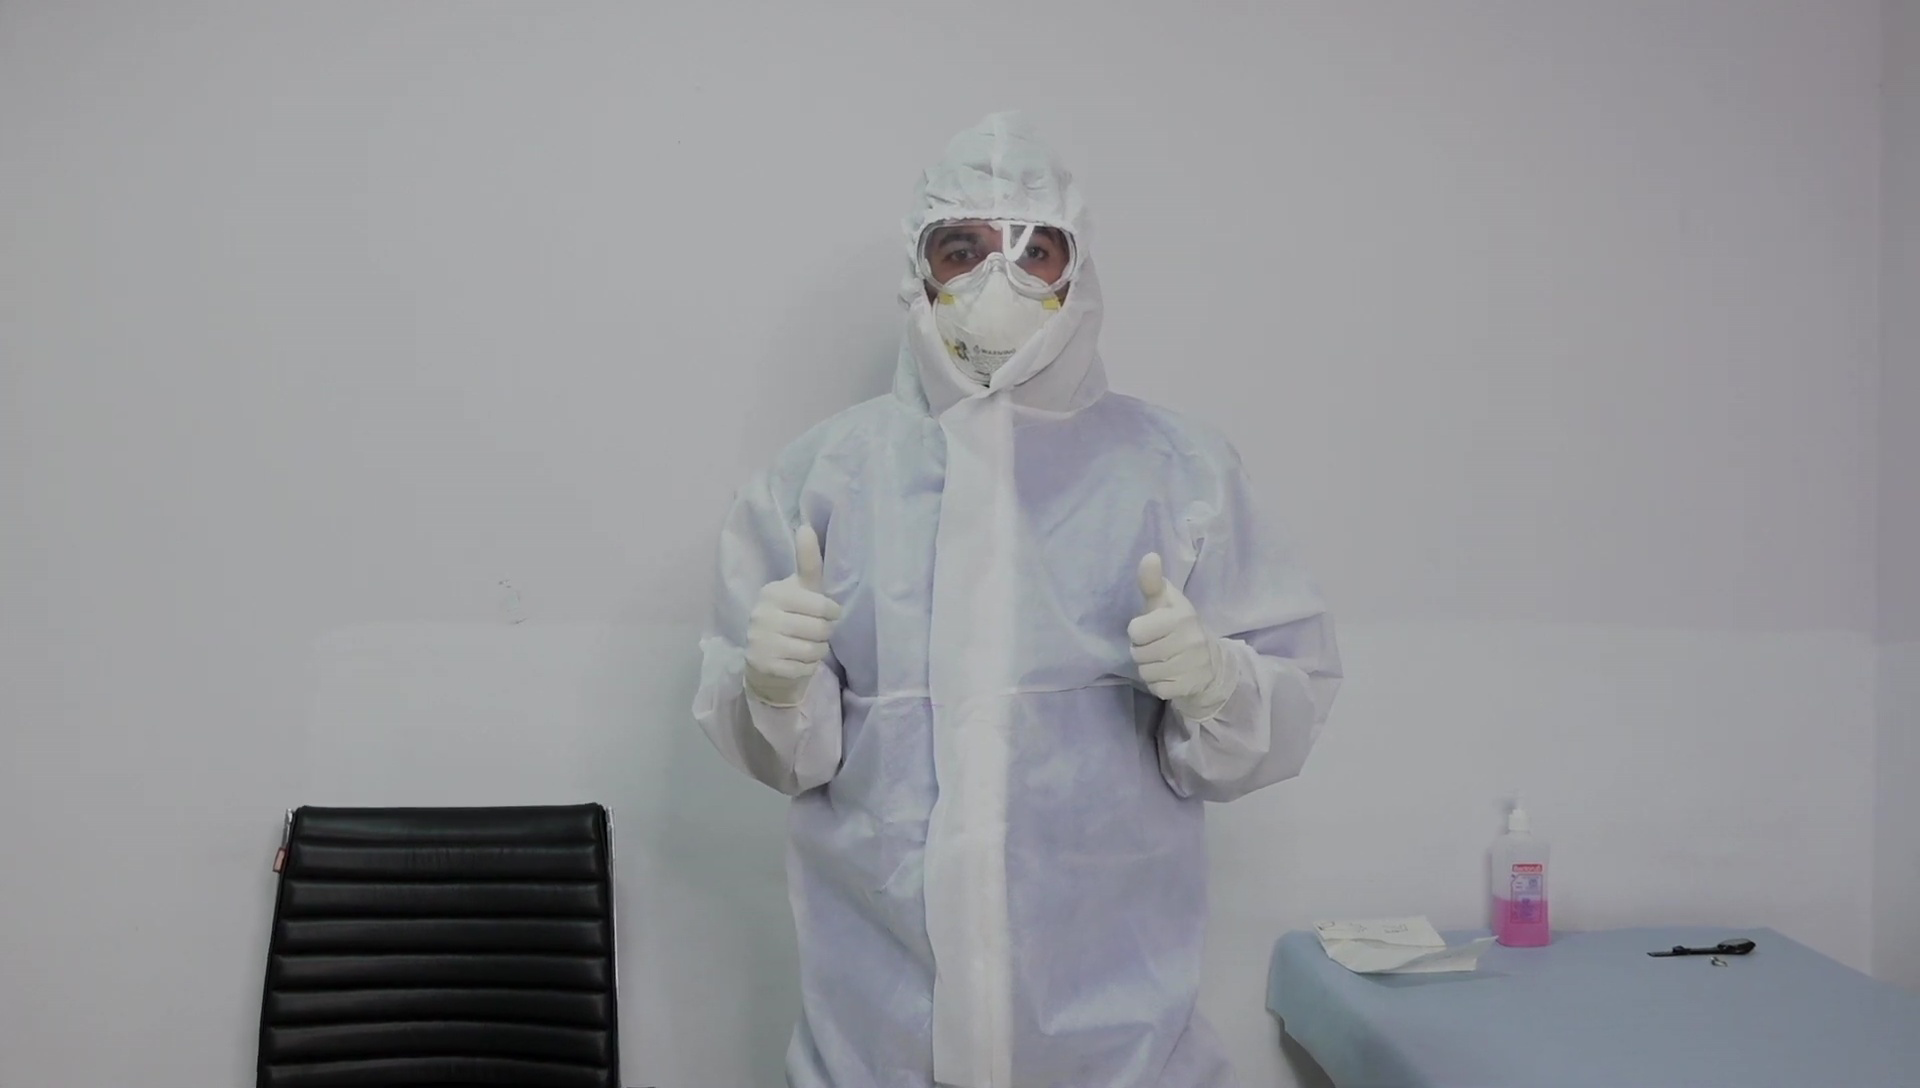Coverall: (691, 110, 1342, 1082)
Gloves: (741, 524, 843, 701), (1123, 553, 1216, 704)
Goggles: (912, 214, 1078, 301)
with_mask: (930, 254, 1064, 382)
